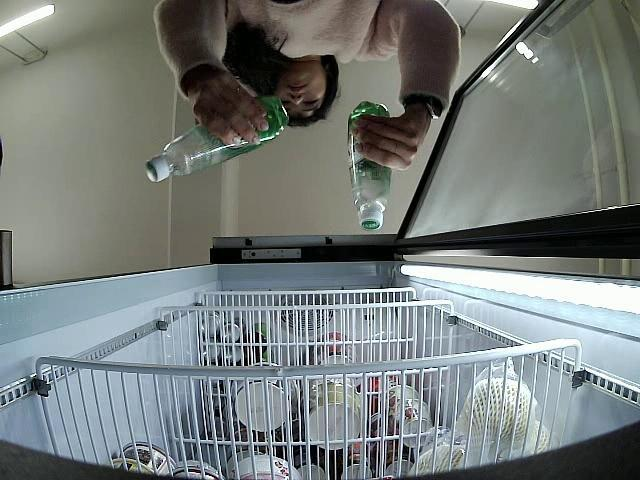18_trevi: (145, 94, 290, 182), (349, 100, 395, 229)
